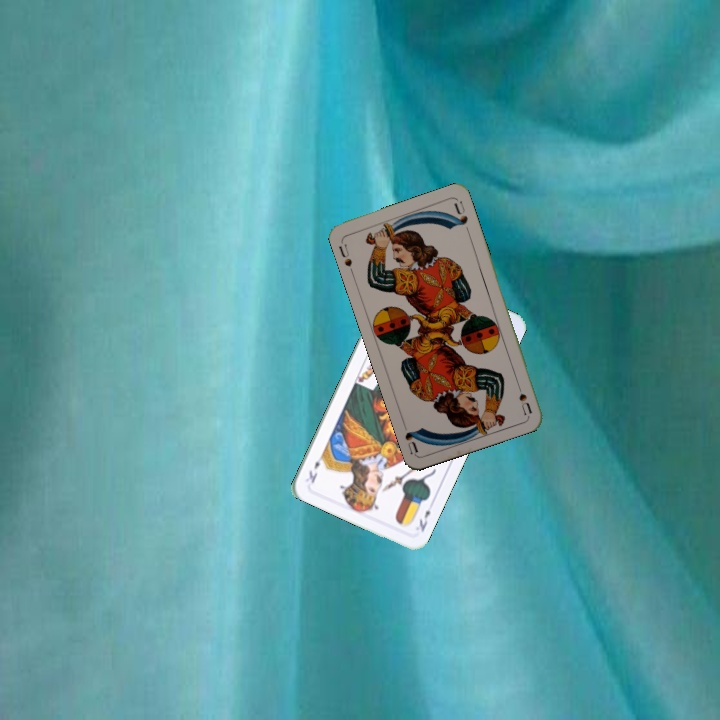EK: (415, 506, 433, 534)
SU: (512, 376, 534, 417), (335, 237, 356, 277)
